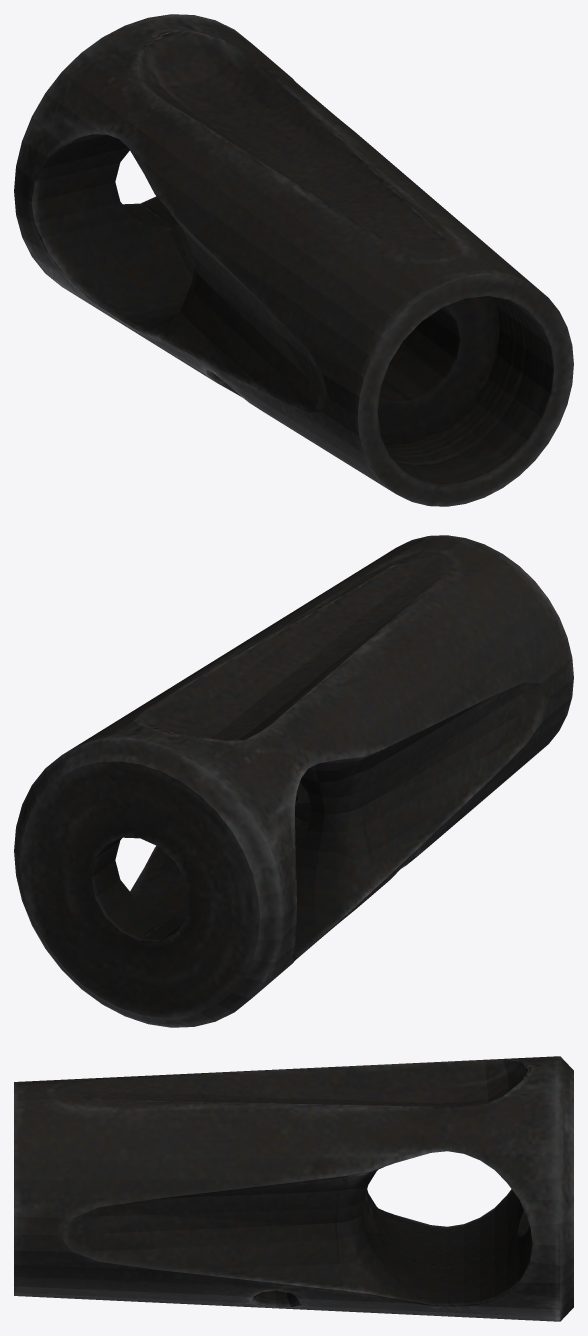
3 renders of one model, top to bottom at view 1: azimuth 30°, elevation 25°; view 2: azimuth 150°, elevation 25°; view 3: azimuth 270°, elevation 25°, orthographic. The views are drawn at different scales.
Visible parts, largest first — view 1: TW_5d02677ad7ad1a04a15c0f95_PZ_Import; view 2: TW_5d02677ad7ad1a04a15c0f95_PZ_Import; view 3: TW_5d02677ad7ad1a04a15c0f95_PZ_Import.
Part boxes in pixels (box(x1,y1,x2,y2)): TW_5d02677ad7ad1a04a15c0f95_PZ_Import: box(14, 14, 573, 506); TW_5d02677ad7ad1a04a15c0f95_PZ_Import: box(14, 535, 573, 1027); TW_5d02677ad7ad1a04a15c0f95_PZ_Import: box(14, 1056, 573, 1321).
Bounding box in the file's own units: 0.0153 × 0.0322 × 0.0153.
1 material, 1 textured.
